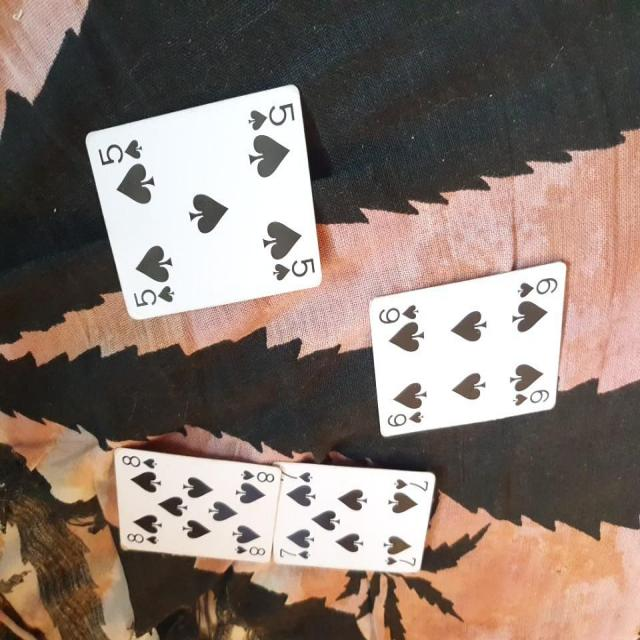5 Spades: (58, 74, 332, 330)
6 Spades: (369, 252, 577, 448)
7 Spades: (271, 455, 458, 599)
8 Spades: (98, 429, 279, 587)
